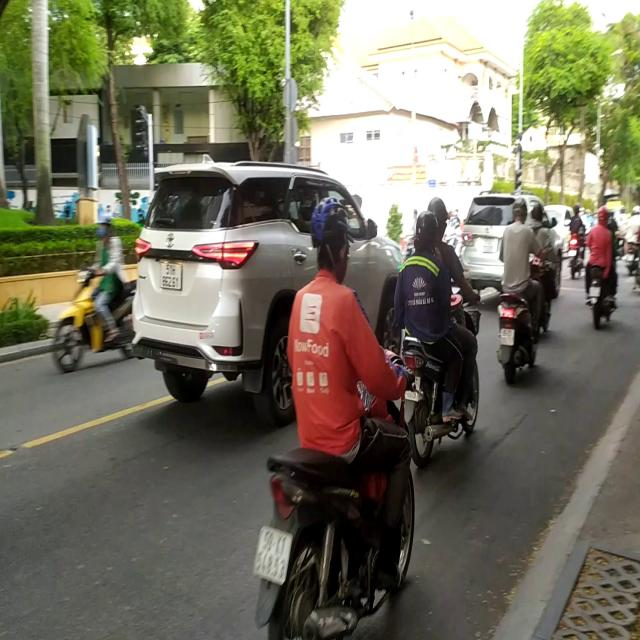bien_trang: (159, 258, 185, 290)
